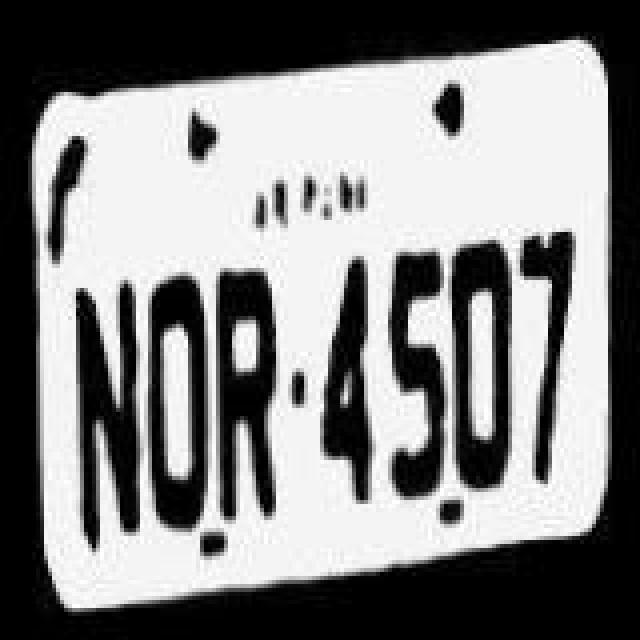4: (312, 252, 388, 512)
5: (378, 228, 454, 500)
7: (514, 220, 582, 492)
N: (64, 274, 148, 550)
O: (140, 272, 216, 536), (446, 220, 514, 492)
R: (210, 268, 298, 524)
